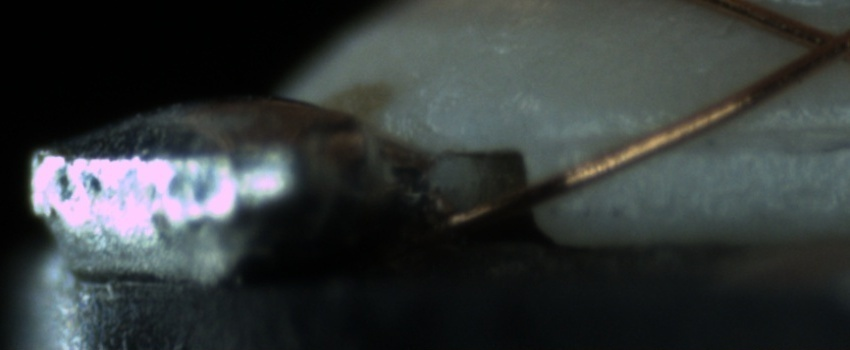CL: (781, 12, 850, 74)
DL: (564, 97, 843, 167)
